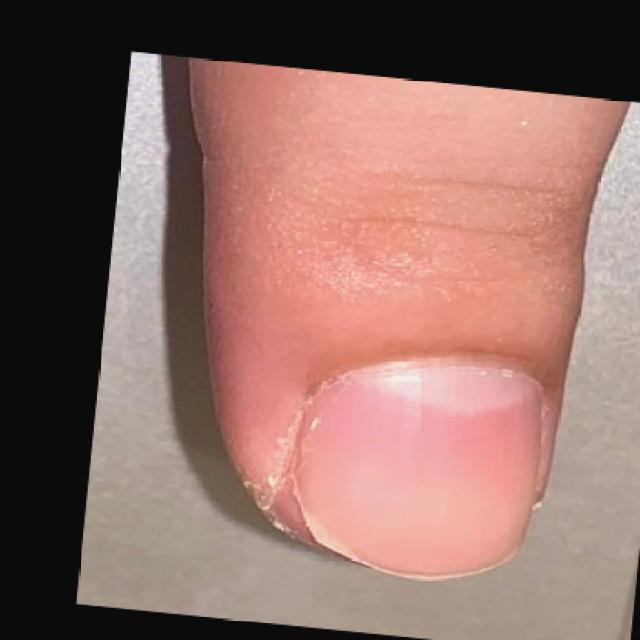Nail: (295, 366, 539, 583)
